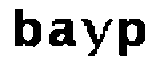a: (47, 15, 79, 50)
b: (13, 8, 44, 49)
p: (116, 13, 148, 60)
y: (79, 14, 112, 60)
